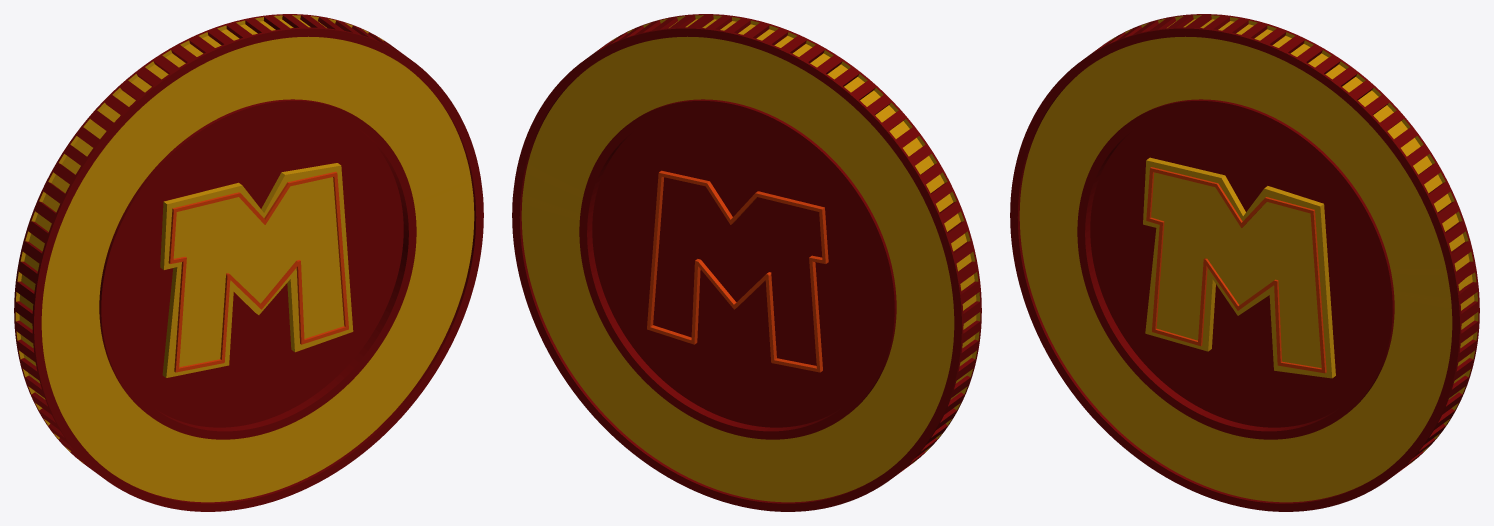
The model's file is Coin_Iteration.fbx.
3 renders of one model, left to right at view 1: azimuth 30°, elevation 25°; view 2: azimuth 150°, elevation 25°; view 3: azimuth 330°, elevation 25°, orthographic.
Parts seen in each view (by area): view 1: MokenCoin_Iteration, M_Iteration, MBorder_Iteration; view 2: MokenCoin_Iteration, MBorder_Iteration; view 3: MokenCoin_Iteration, M_Iteration, MBorder_Iteration.
Boxes of the visible parts, x1=… form: MokenCoin_Iteration: x1=14, y1=14, x2=483, y2=511; M_Iteration: x1=160, y1=163, x2=353, y2=377; MBorder_Iteration: x1=168, y1=171, x2=348, y2=372; MokenCoin_Iteration: x1=512, y1=14, x2=981, y2=511; MBorder_Iteration: x1=647, y1=170, x2=828, y2=372; MokenCoin_Iteration: x1=1010, y1=14, x2=1479, y2=511; M_Iteration: x1=1143, y1=157, x2=1335, y2=378; MBorder_Iteration: x1=1146, y1=167, x2=1326, y2=373.
Size of the model in its own units: 184 by 184 by 14.19.
